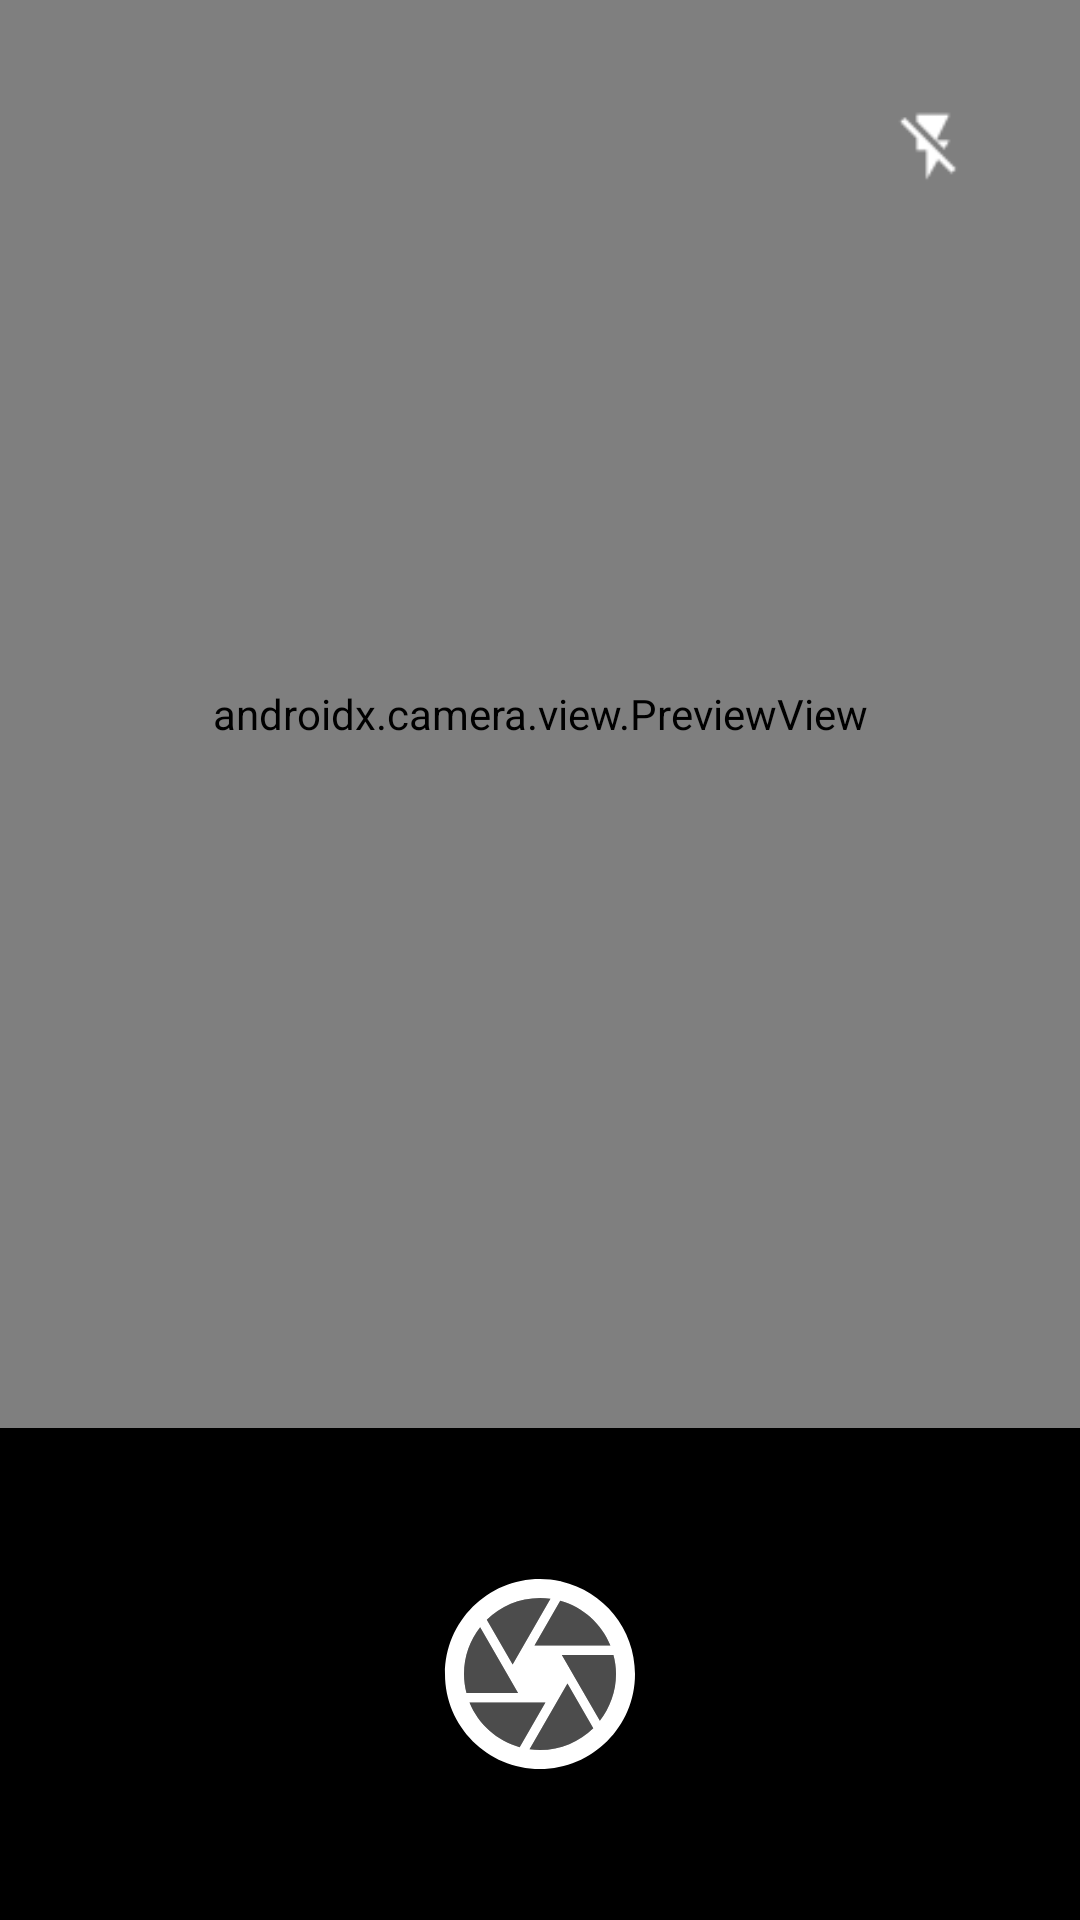

Icons on this 1080×1920 Android screen, each with its box as bbox(x1, y1, x2, y2):
flash off: bbox(900, 113, 956, 179)
